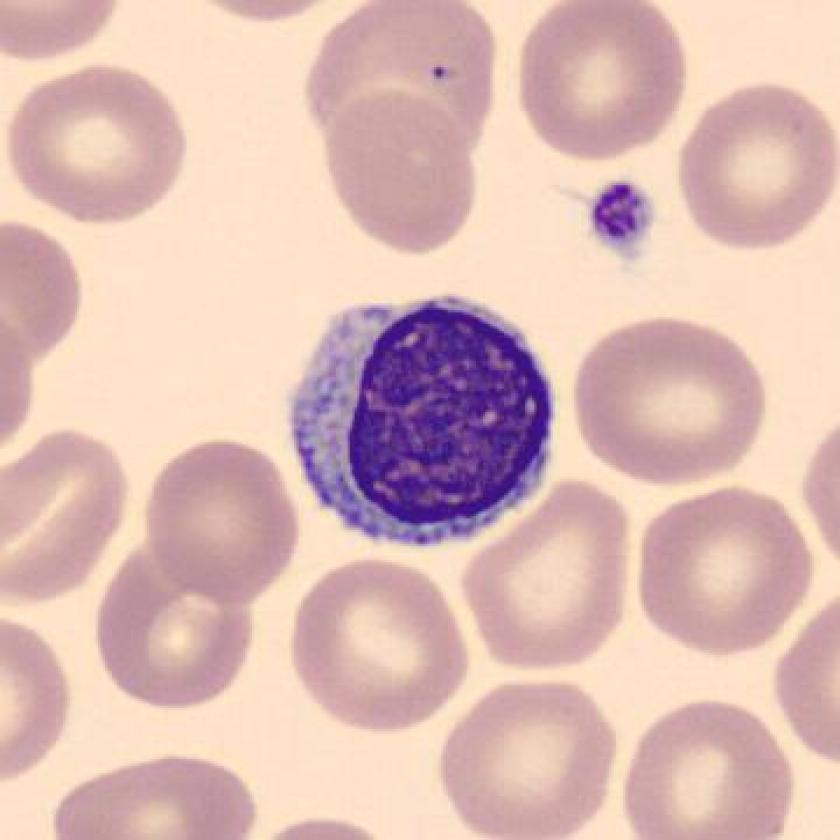lymphocyte: (274, 279, 570, 561)
